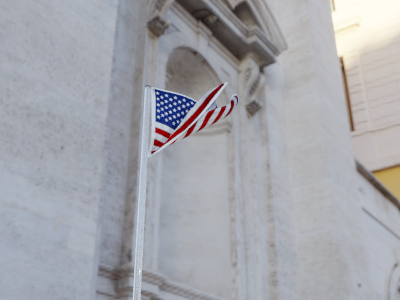America flag: (149, 82, 240, 156)
